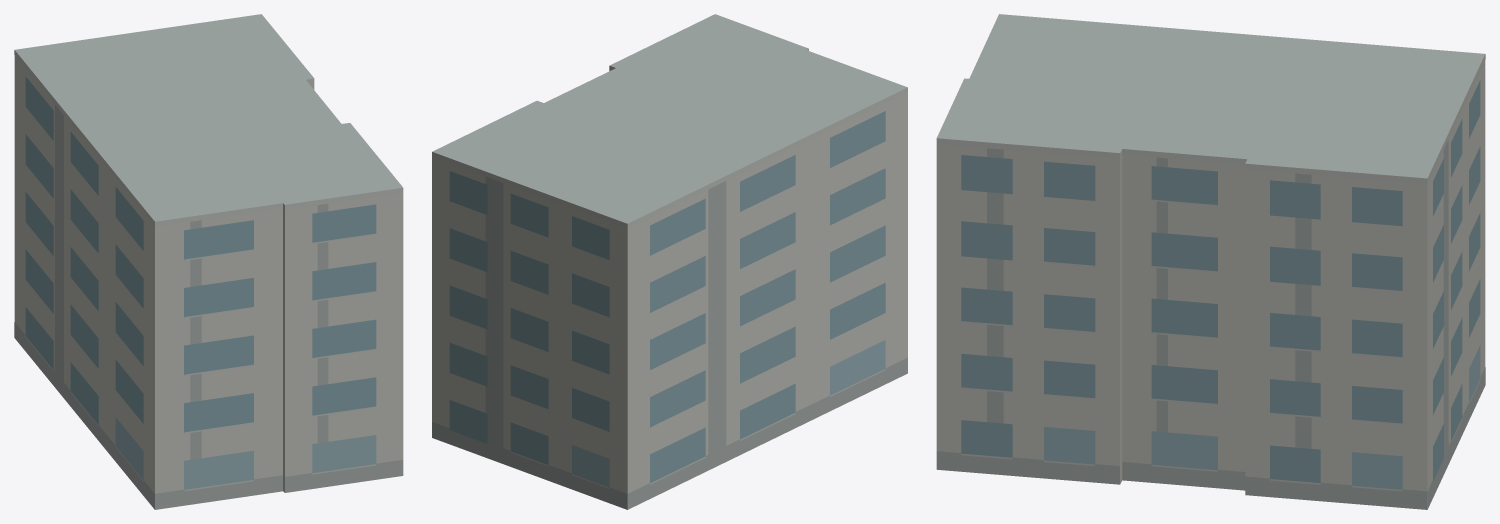
File: survey-upis-32810033.glb
3 views of the same model, side by side, from view 1: azimuth 30°, elevation 25°; view 2: azimuth 150°, elevation 25°; view 3: azimuth 270°, elevation 25° (orthographic). The views are drawn at different scales.
Parts seen in each view (by area): view 1: survey-upis-32810033.tmp; view 2: survey-upis-32810033.tmp; view 3: survey-upis-32810033.tmp.
Part boxes in pixels (x1,y1,x2,y2): survey-upis-32810033.tmp: (14,14,403,509); survey-upis-32810033.tmp: (432,14,907,509); survey-upis-32810033.tmp: (936,14,1485,509).
Bounding box in the file's own units: 14.69 × 13.8 × 20.72.
